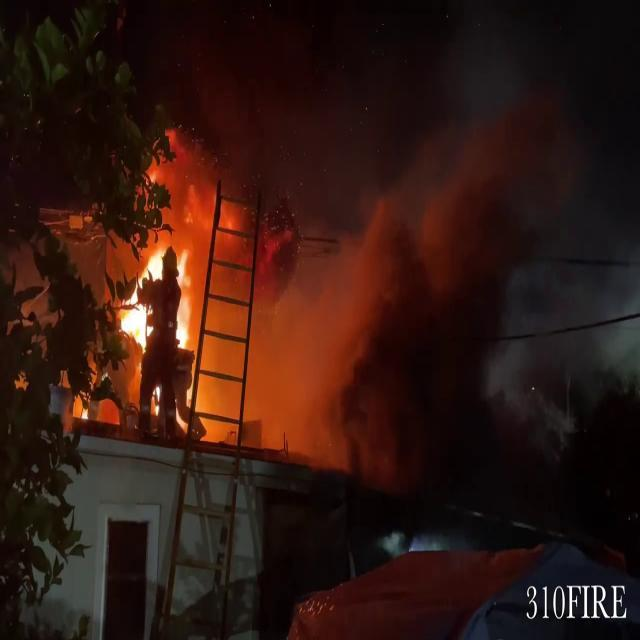Fire: (115, 234, 201, 356)
Smoke: (161, 1, 637, 471)
